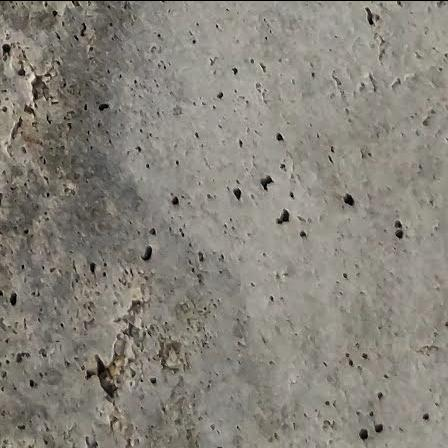spalling: (85, 265, 157, 414)
